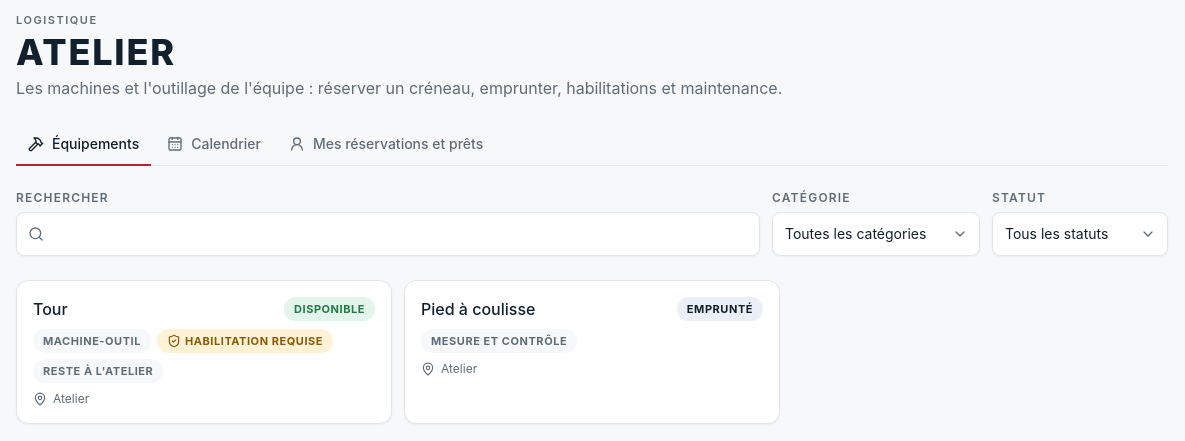
Test case: WorkshopPage › lists the equipment with its status and what it needs, and filters it
Expected: the text "Disponible" is shown, top-left (284, 297), bottom-right (375, 321)
Expected: the text "Machine-outil" is shown, top-left (33, 329), bottom-right (151, 353)
Step 1. Select "Machine-outil" in the dropdown labelled "Catégorie" → (876, 234), box top-left (772, 212), bottom-right (980, 256)
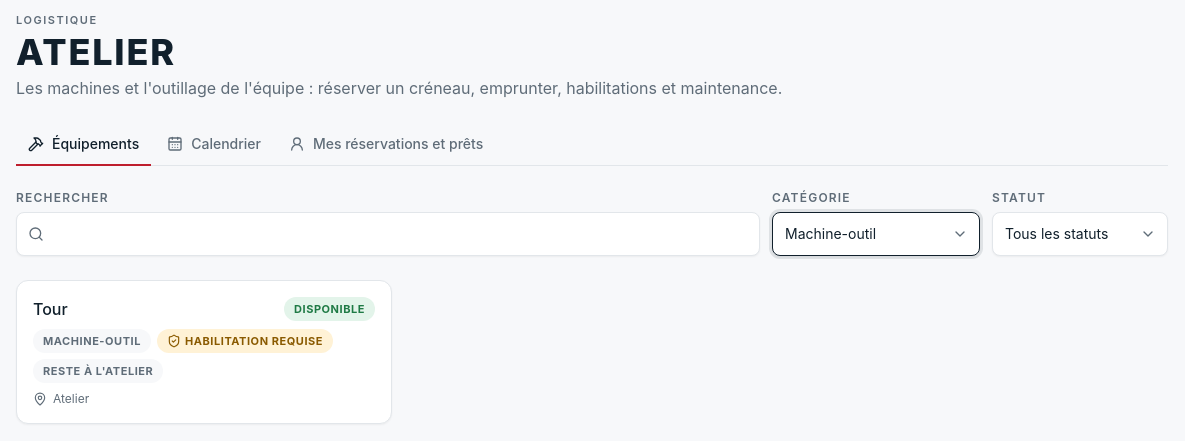
Expected: the link "Pied à coulisse" is gone
